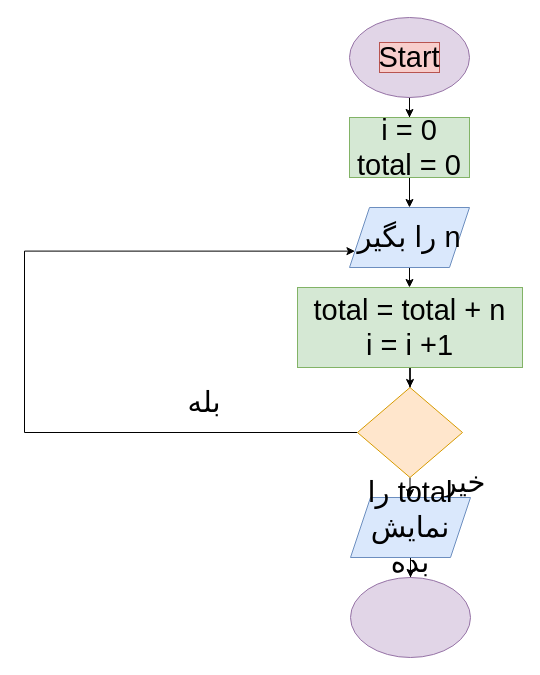
This 540x675 diagram has some shape labels left out. The shapes that lost their labels are listed below. From the top down, each one's centre as x and y in pixels, then its label:
At pixel 409 432: "i<10?".
At pixel 410 617: "پایان".
